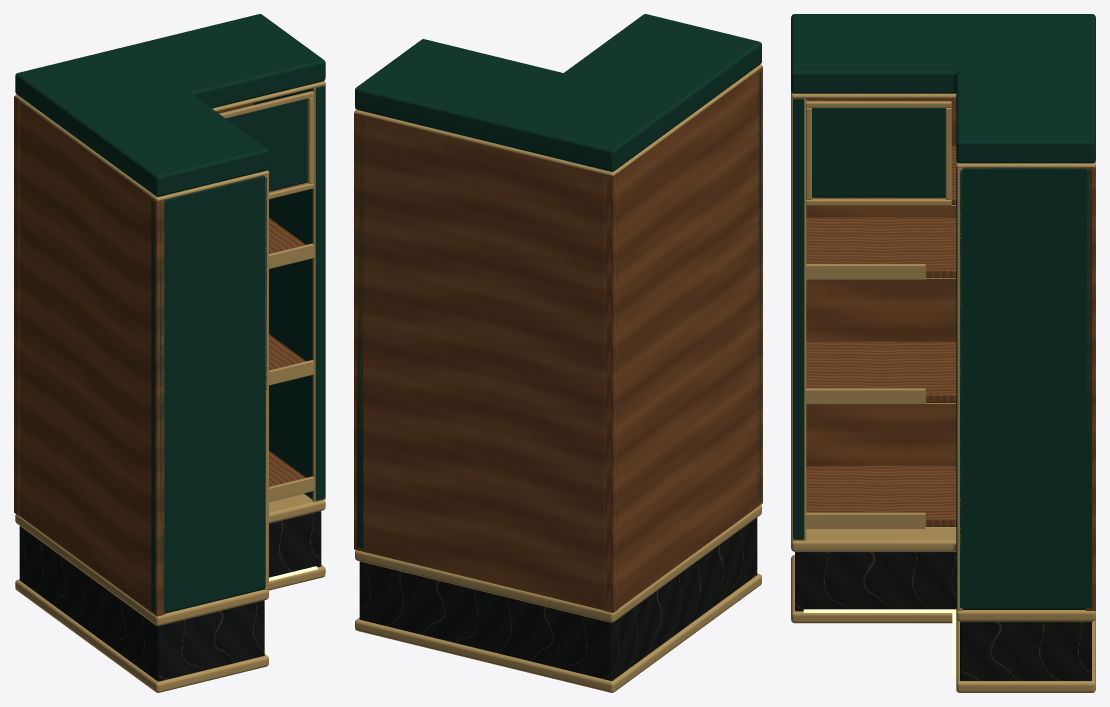
File: edited.glb
3 renders of one model, left to right at view 1: azimuth 30°, elevation 25°; view 2: azimuth 150°, elevation 25°; view 3: azimuth 270°, elevation 25°, orthographic. The views are drawn at different scales.
Visible parts, largest first — view 1: cabinet_back_B, cabinet_end_B, cabinet_crown, cabinet_stone_base, cabinet_end_A, brand_header_front_panel, trim_base_top, trim_base_plinth, cabinet_corner_spine, trim_crown_lip, trim_front_A, trim_front_B (+8 smaller); view 2: cabinet_back_A, cabinet_back_B, cabinet_crown, cabinet_stone_base, cabinet_corner_spine, trim_base_plinth, trim_base_top, cabinet_end_A, trim_crown_lip, cabinet_end_B; view 3: cabinet_end_A, cabinet_crown, cabinet_back_B, cabinet_stone_base, brand_header_side_panel, shelf_2, shelf_3, shelf_1, trim_base_top, cabinet_end_B, trim_base_plinth, cabinet_back_A (+12 smaller).
Part boxes in pixels (bbox=[...]): cabinet_back_B: bbox=[19, 101, 164, 616]; cabinet_end_B: bbox=[151, 176, 266, 613]; cabinet_crown: bbox=[15, 14, 325, 196]; cabinet_stone_base: bbox=[19, 511, 321, 681]; cabinet_end_A: bbox=[253, 86, 324, 500]; brand_header_front_panel: bbox=[226, 98, 307, 191]; trim_base_top: bbox=[15, 493, 325, 625]; trim_base_plinth: bbox=[15, 565, 325, 692]; cabinet_corner_spine: bbox=[14, 96, 19, 515]; trim_crown_lip: bbox=[15, 81, 325, 200]; trim_front_A: bbox=[311, 84, 325, 502]; trim_front_B: bbox=[264, 174, 268, 589]; cabinet_back_A: bbox=[354, 112, 604, 610]; cabinet_back_B: bbox=[618, 66, 762, 608]; cabinet_crown: bbox=[355, 14, 761, 171]; cabinet_stone_base: bbox=[359, 517, 757, 680]; cabinet_corner_spine: bbox=[604, 172, 618, 612]; trim_base_plinth: bbox=[355, 573, 761, 692]; trim_base_top: bbox=[355, 505, 761, 622]; cabinet_end_A: bbox=[357, 118, 363, 548]; trim_crown_lip: bbox=[354, 64, 762, 175]; cabinet_end_B: bbox=[757, 71, 761, 501]; cabinet_end_A: bbox=[956, 167, 1091, 609]; cabinet_crown: bbox=[791, 14, 1095, 163]; cabinet_back_B: bbox=[806, 98, 956, 465]; cabinet_stone_base: bbox=[795, 552, 1091, 680]; brand_header_side_panel: bbox=[812, 108, 945, 197]; shelf_2: bbox=[806, 341, 956, 402]; shelf_3: bbox=[806, 217, 956, 278]; shelf_1: bbox=[806, 466, 956, 527]; trim_base_top: bbox=[791, 527, 1095, 621]; cabinet_end_B: bbox=[793, 98, 804, 539]; trim_base_plinth: bbox=[791, 555, 1095, 692]; cabinet_back_A: bbox=[1085, 166, 1095, 610].
Bounding box in the file's own units: 1.2 × 2.4 × 1.2.
Materials: 5 (2 with a texture image).
